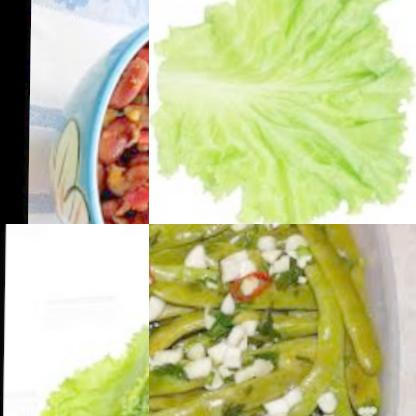fasol: (246, 224, 388, 416), (149, 224, 204, 416), (99, 14, 149, 224), (149, 224, 317, 271), (149, 382, 319, 416)
garlic: (153, 325, 276, 386), (252, 227, 316, 273), (220, 247, 261, 293), (263, 385, 315, 416), (179, 244, 214, 281), (309, 391, 346, 416)
salad: (149, 0, 416, 224), (10, 243, 149, 416)
